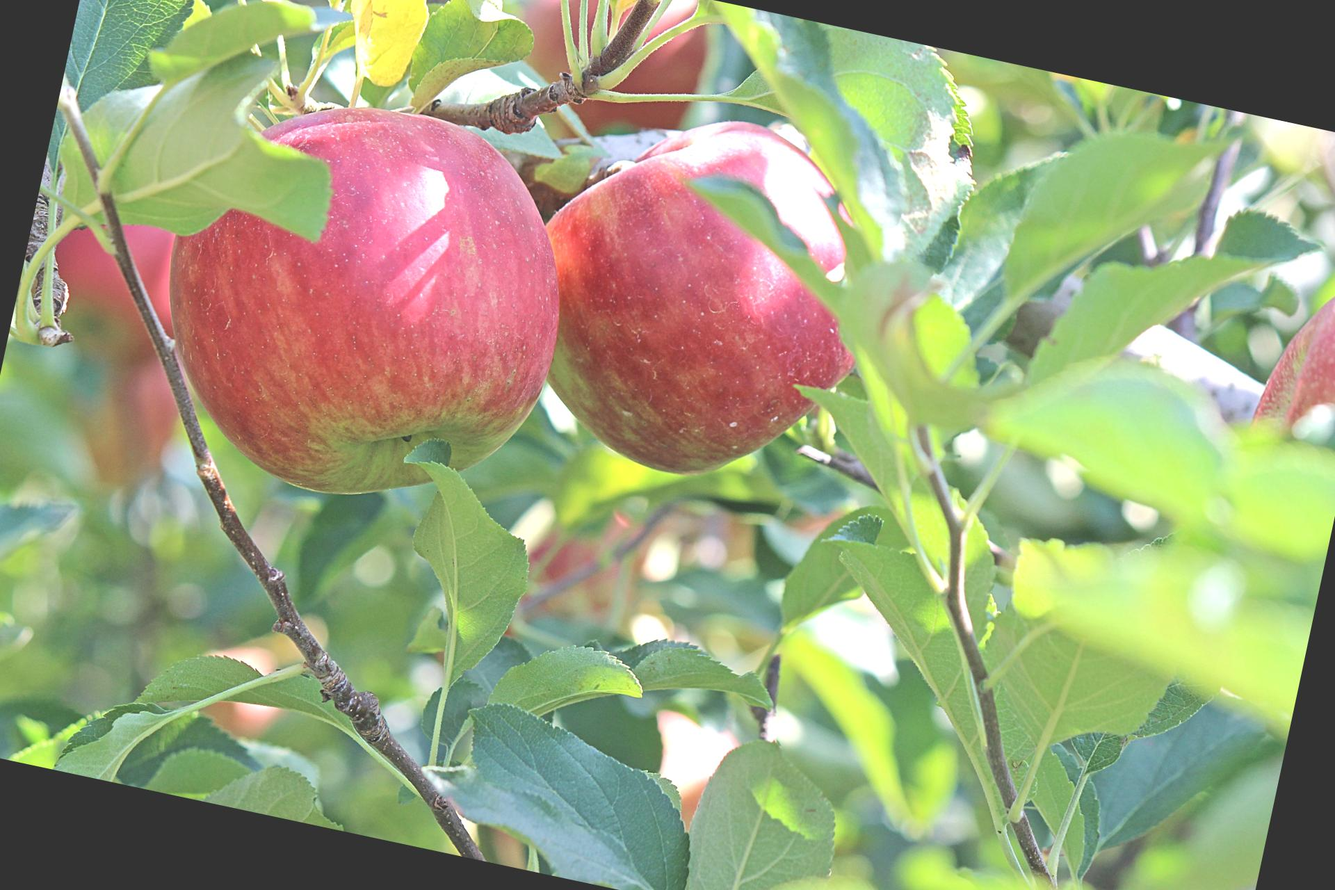Apple Ripe: (114, 39, 599, 546), (492, 67, 945, 590)
